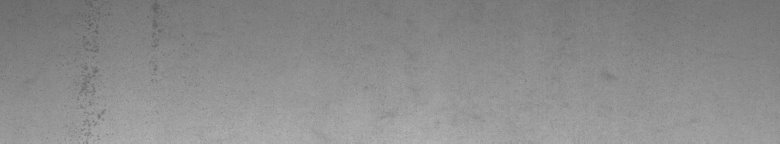ib: (77, 4, 160, 126)
